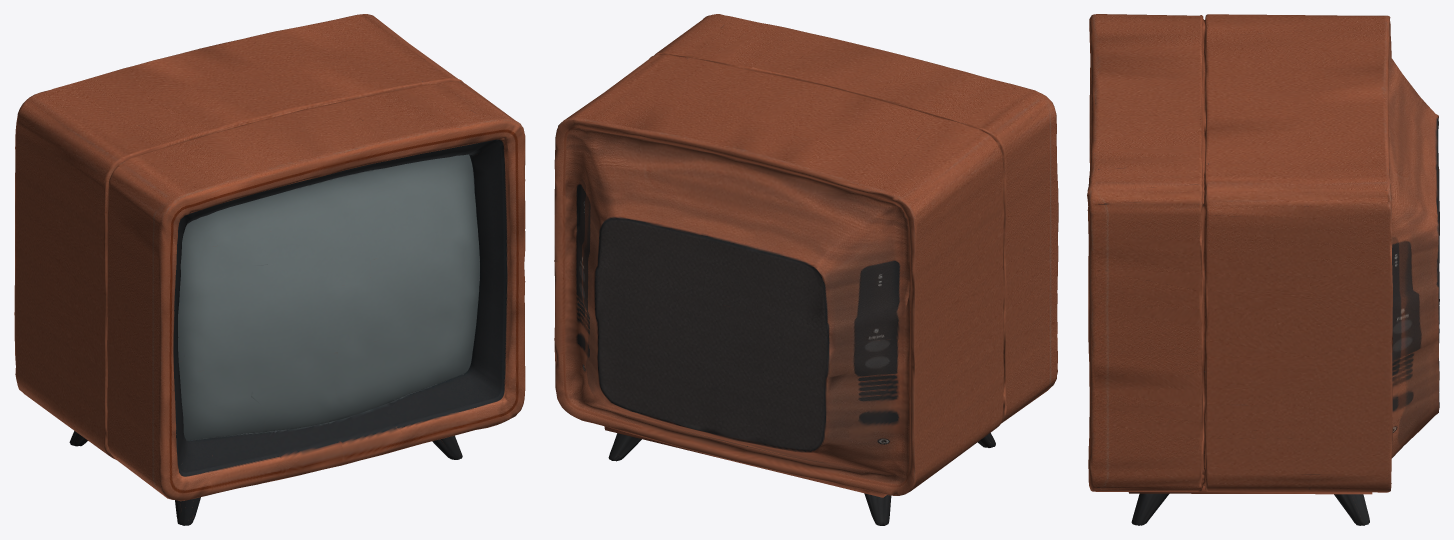
File: VintageTV.fbx
The picture shows the model from 3 angles, left to right: view 1: azimuth 30°, elevation 25°; view 2: azimuth 150°, elevation 25°; view 3: azimuth 270°, elevation 25°; orthographic projection. The views are drawn at different scales.
Visible parts, largest first — view 1: Mesh_0; view 2: Mesh_0; view 3: Mesh_0.
Boxes of the visible parts, x1,y1,x2,y2 form: Mesh_0: (14,14,525,525); Mesh_0: (554,14,1058,525); Mesh_0: (1087,14,1439,525).
Size of the model in its own units: 100 by 93.54 by 81.62.
1 material, 1 textured.
